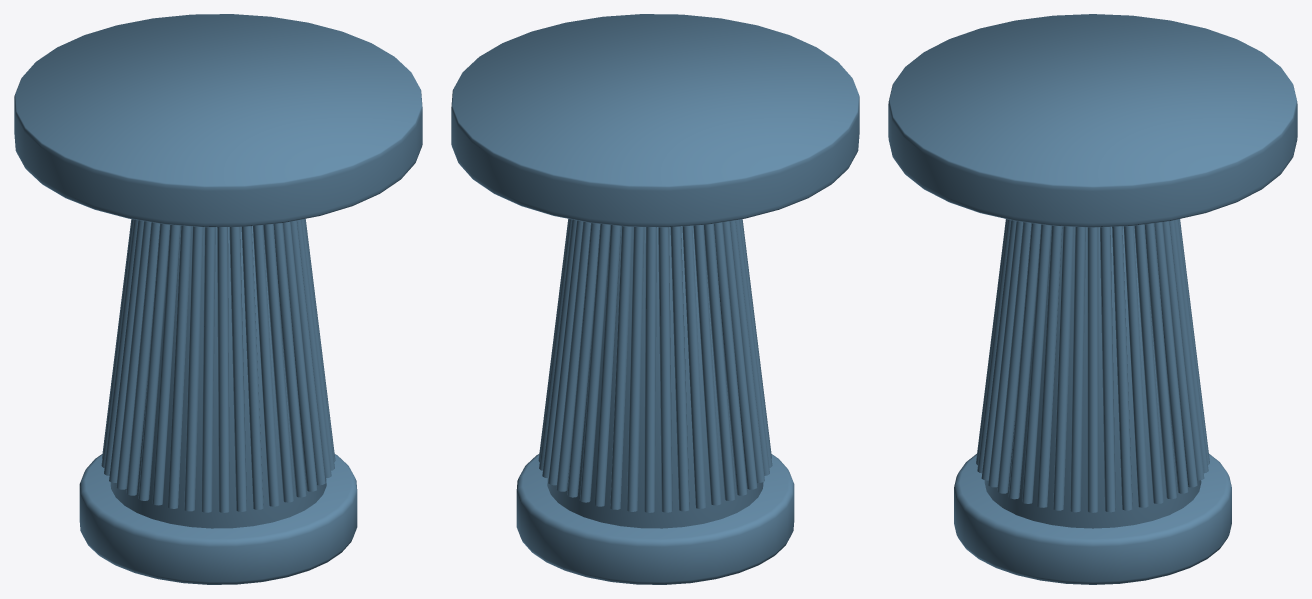
Rendered from ribbed-pedestal-side-table.glb.
The picture shows the model from 3 angles, left to right: view 1: azimuth 30°, elevation 25°; view 2: azimuth 150°, elevation 25°; view 3: azimuth 270°, elevation 25°; orthographic projection.
Parts seen in each view (by area): view 1: ribbed-pedestal-side-table; view 2: ribbed-pedestal-side-table; view 3: ribbed-pedestal-side-table.
Part boxes in pixels (bbox=[...]): ribbed-pedestal-side-table: bbox=[14, 14, 422, 584]; ribbed-pedestal-side-table: bbox=[451, 14, 859, 584]; ribbed-pedestal-side-table: bbox=[888, 14, 1297, 584].
Size of the model in its own units: 0.45 by 0.52 by 0.45.
